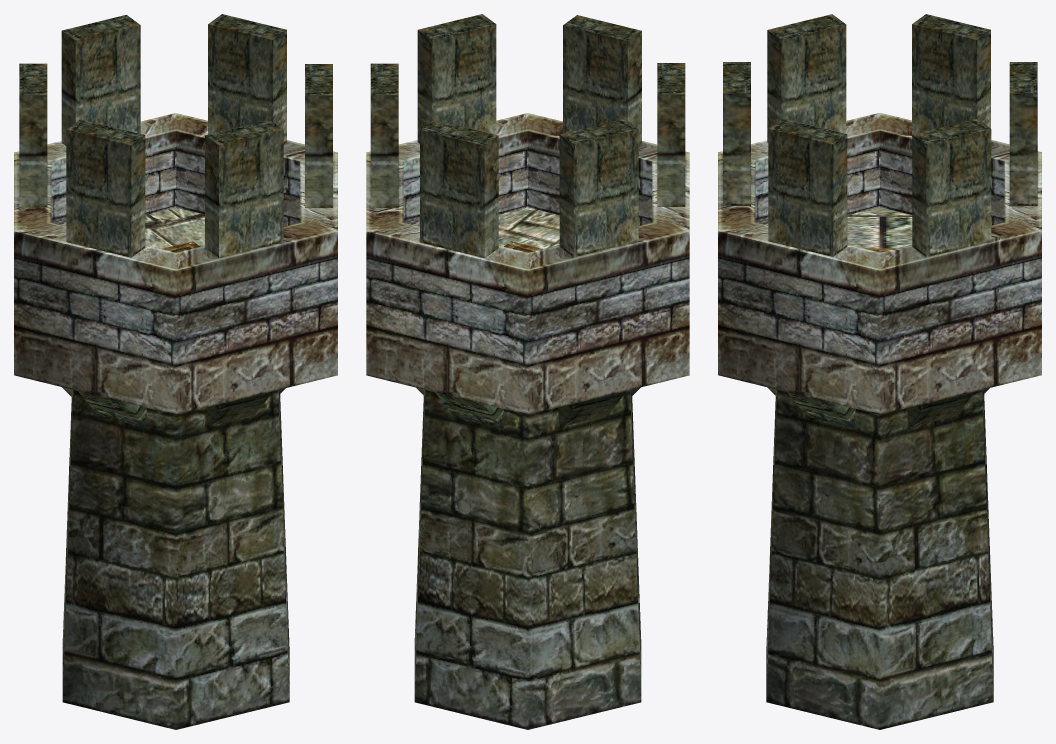
3 renders of one model, left to right at view 1: azimuth 30°, elevation 25°; view 2: azimuth 150°, elevation 25°; view 3: azimuth 270°, elevation 25°, orthographic.
Parts seen in each view (by area): view 1: cc43-col; view 2: cc43-col; view 3: cc43-col.
Boxes of the visible parts, <box> form: cc43-col: <box>14,14,337,729</box>; cc43-col: <box>366,14,689,729</box>; cc43-col: <box>718,14,1041,729</box>.
Size of the model in its own units: 4 by 7.03 by 3.46.
Materials: 5 (5 with a texture image).
